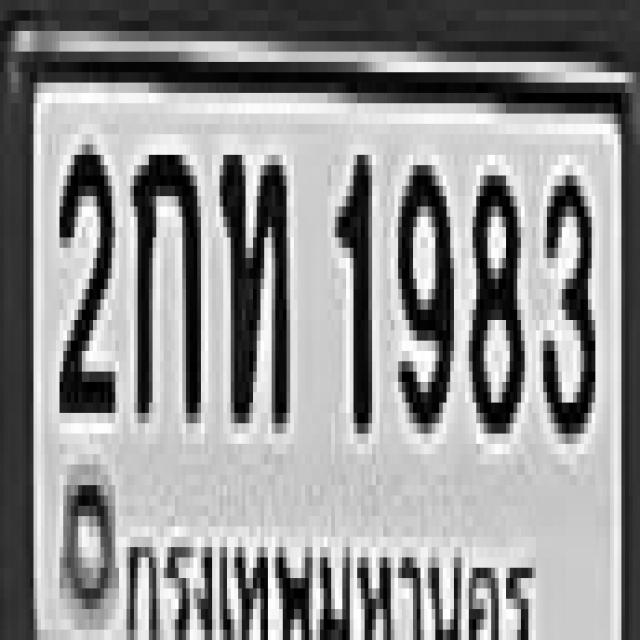1: (332, 139, 368, 418)
10GorGai: (130, 139, 197, 408)
2: (56, 134, 111, 403)
3: (540, 160, 592, 428)
32ThorThaHan: (216, 144, 286, 413)
8: (465, 165, 521, 423)
9: (394, 155, 450, 423)
Bangkok: (124, 518, 537, 640)
